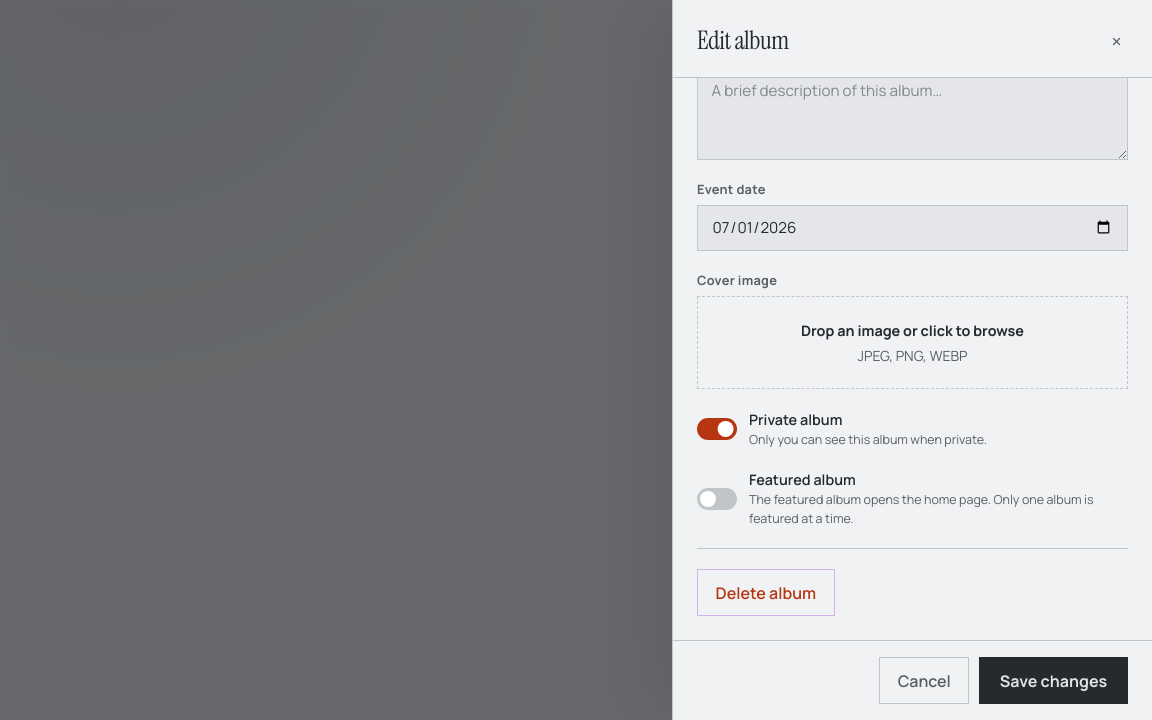
Test: deleting an album › asks first, names the photo count, and moves focus to Cancel delete
(page scrolled)
Step 1. Click the button "Delete album" → (766,593), box [697,569,835,616]
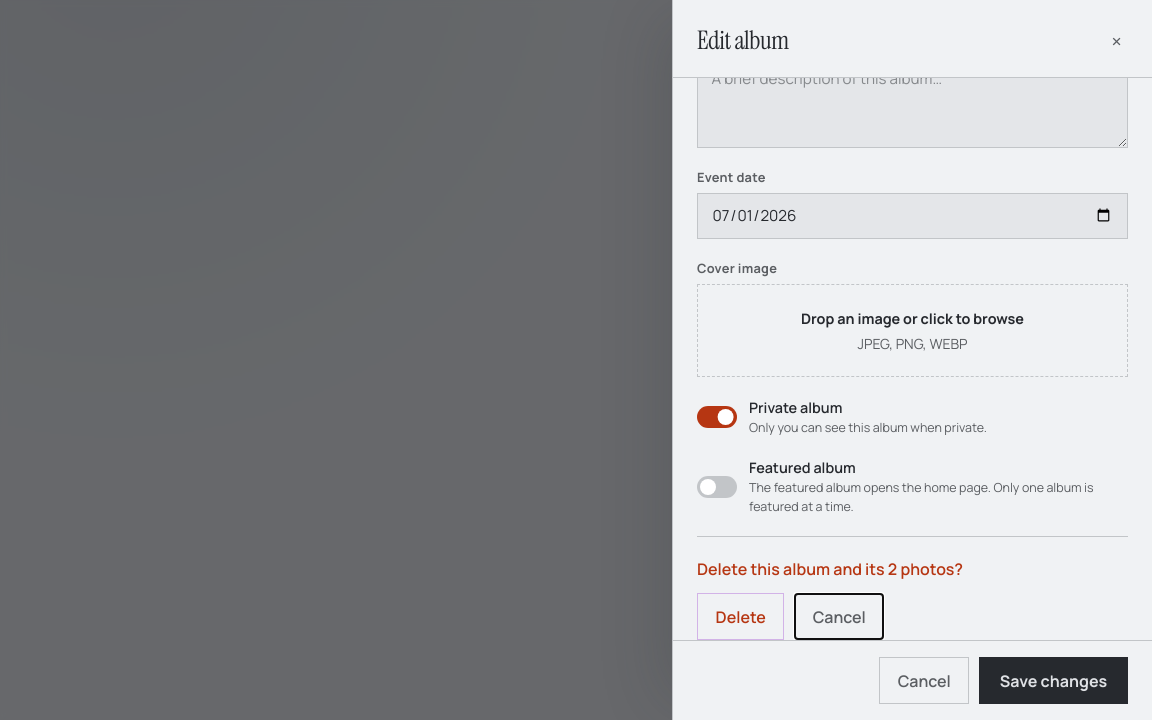
Expected: the text "Delete this album and its 2 photos?" is shown, [697,557,963,581]
